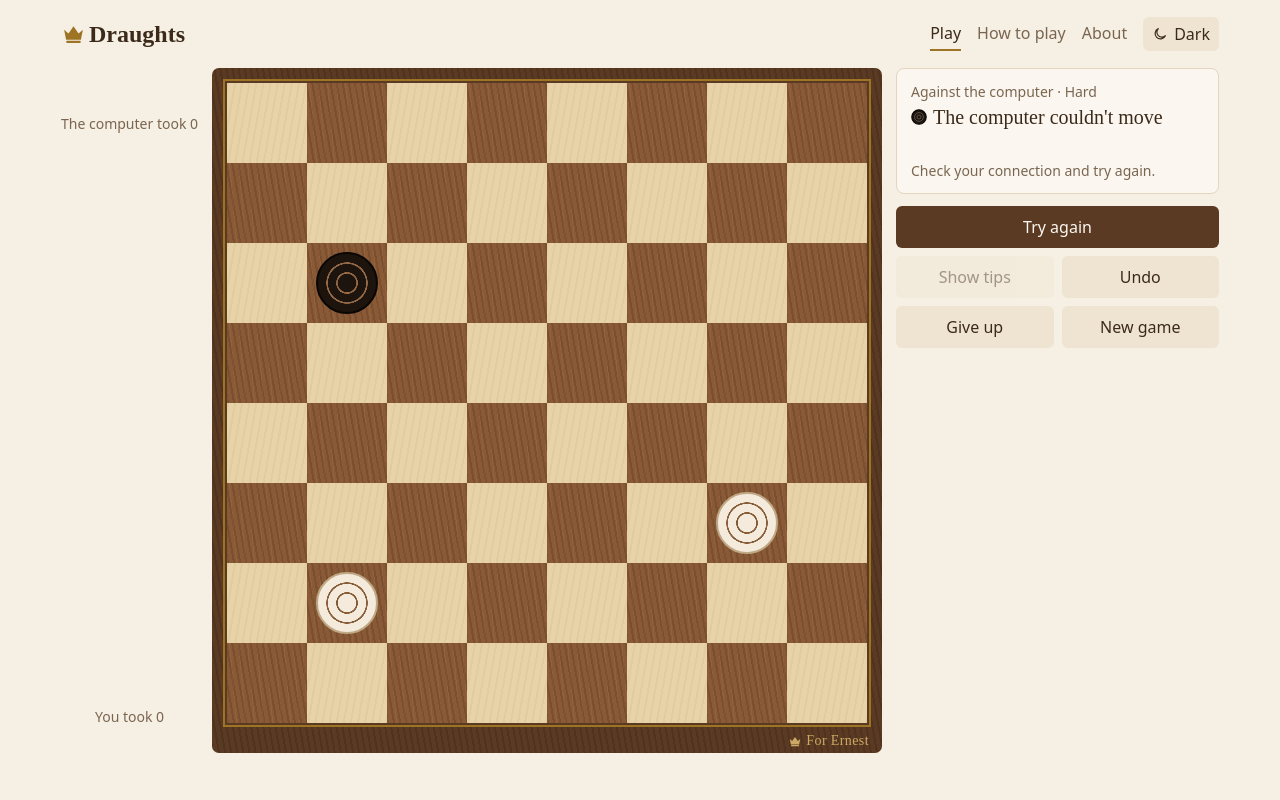
Test: when the computer's move fails › shows the message and Try again, says it, and Try again shows the move
Expected: the text "The computer couldn't move" is shown, left=933, top=104, right=1163, bottom=130
Expected: the text "Check your connection and try again." is shown, left=911, top=161, right=1155, bottom=180
Click the button "Try again" at (1058, 227), box left=896, top=206, right=1219, bottom=248
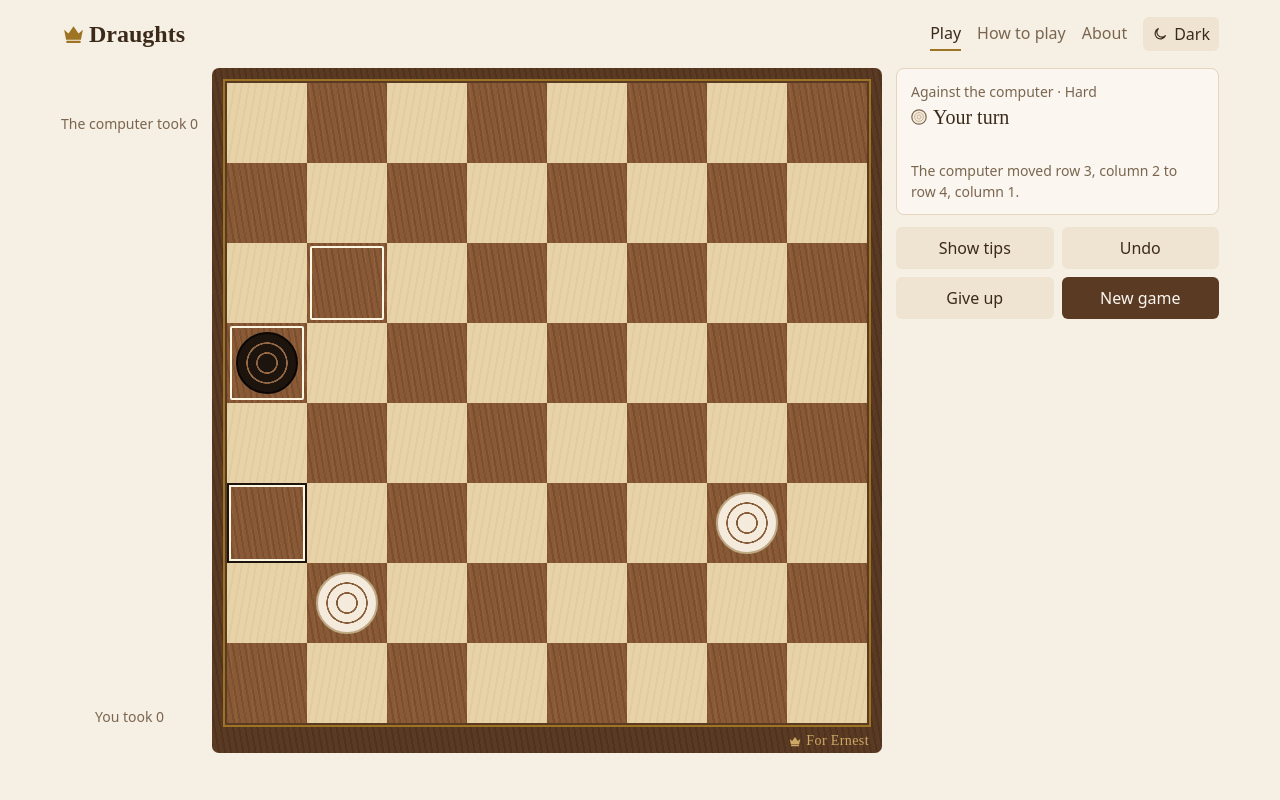
Expected: the text "Your turn" is shown, left=933, top=104, right=1009, bottom=130
Expected: the cell named "Row 4, column 1, the computer's man" is shown, left=227, top=323, right=307, bottom=403
Expected: the text "try again" is gone
